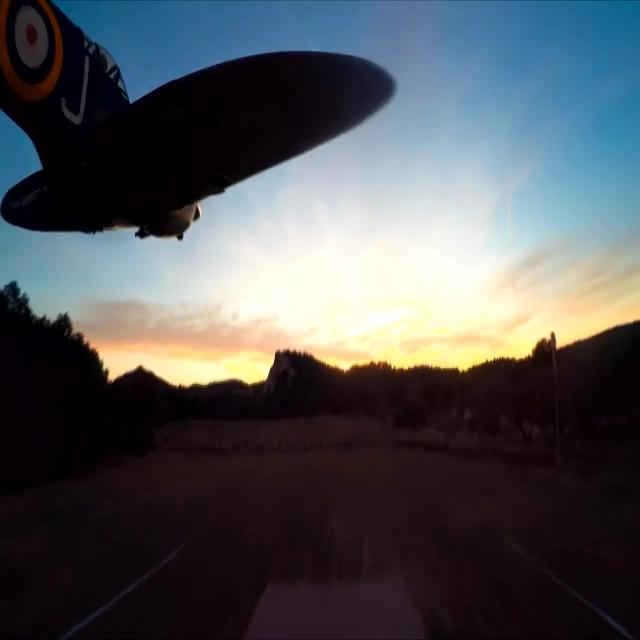iha: (0, 0, 392, 177)
